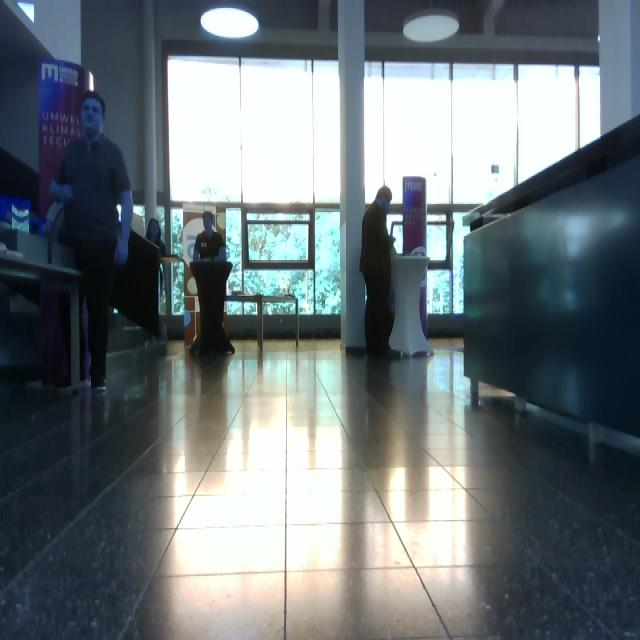light bulb: (200, 6, 260, 40), (403, 9, 460, 44), (18, 1, 35, 24)
person: (49, 90, 134, 392), (360, 186, 402, 360), (190, 212, 235, 354)
pillar: (337, 1, 367, 354)
tiled floor: (2, 335, 639, 639)
window: (166, 52, 342, 318)
